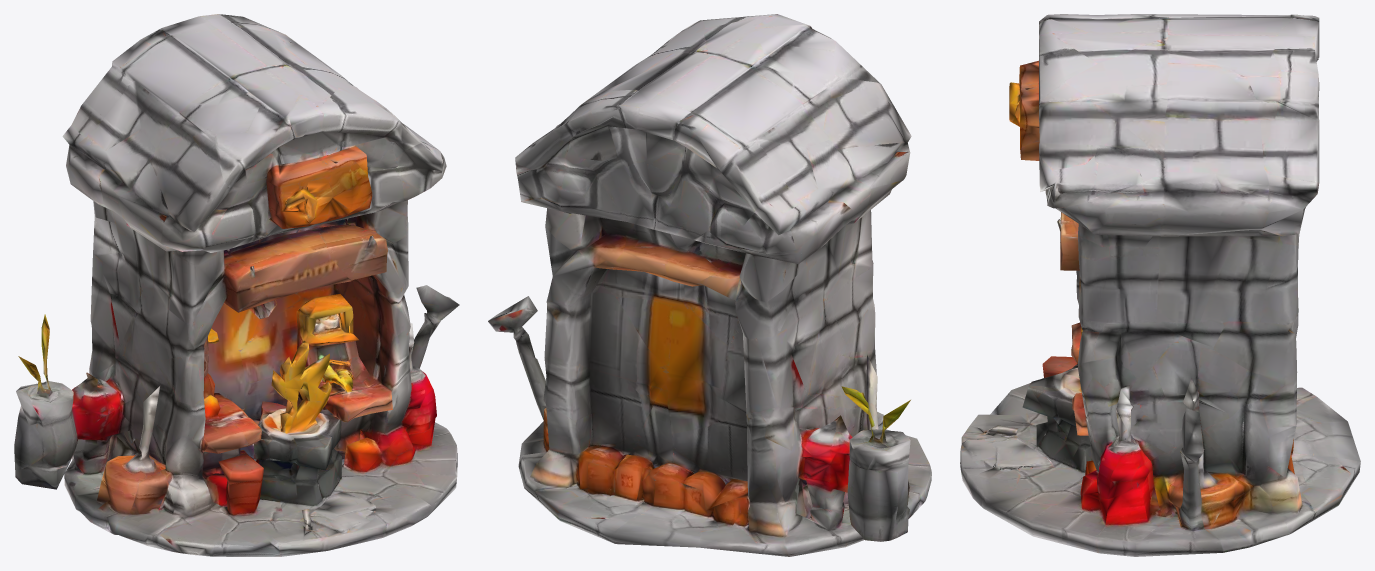
Rendered from upgrades.glb.
3 views of the same model, side by side, from view 1: azimuth 30°, elevation 25°; view 2: azimuth 150°, elevation 25°; view 3: azimuth 270°, elevation 25° (orthographic). The views are drawn at different scales.
Bounding box in the file's own units: 1.89 × 1.74 × 1.45.
1 material, 1 textured.
